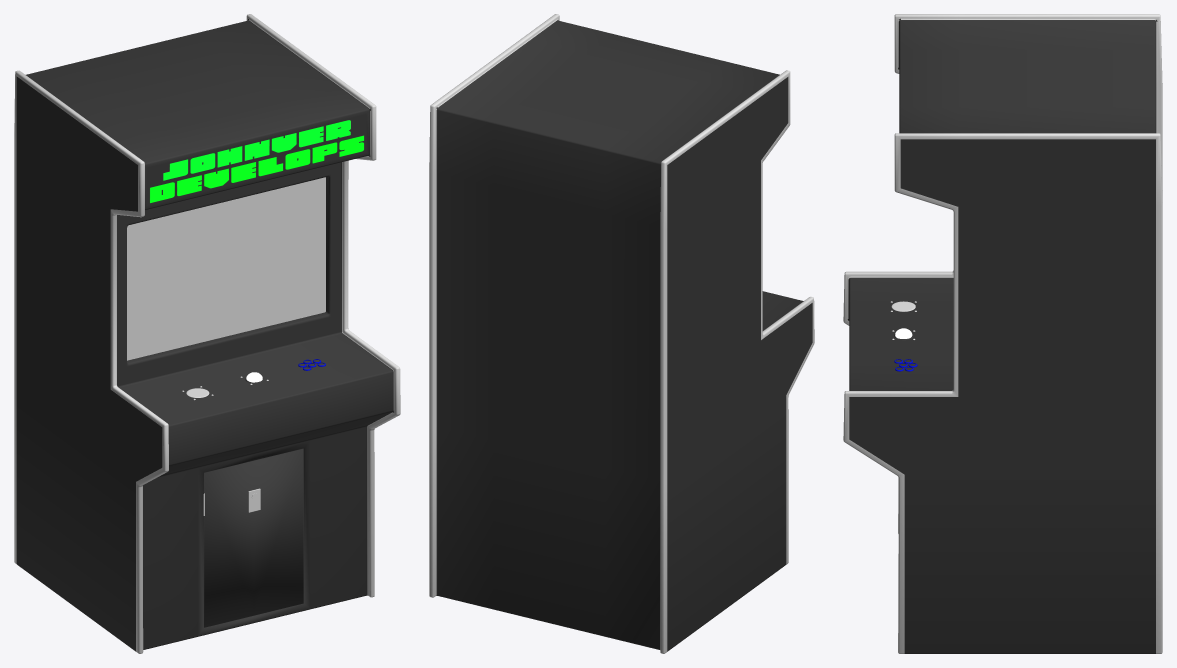
Rendered from arcade-machine.glb.
3 renders of one model, left to right at view 1: azimuth 30°, elevation 25°; view 2: azimuth 150°, elevation 25°; view 3: azimuth 270°, elevation 25°, orthographic. The views are drawn at different scales.
Parts seen in each view (by area): view 1: arcade_machine, screen, arcade_machine.003; view 2: arcade_machine; view 3: arcade_machine.
Part boxes in pixels (x1,y1,x2,y2): arcade_machine: [14, 14, 400, 653]; screen: [127, 177, 325, 360]; arcade_machine.003: [150, 120, 363, 202]; arcade_machine: [429, 14, 814, 653]; arcade_machine: [843, 14, 1162, 653].
Size of the model in its own units: 0.9443 by 1.88 by 1.05.
5 materials, 1 textured.
